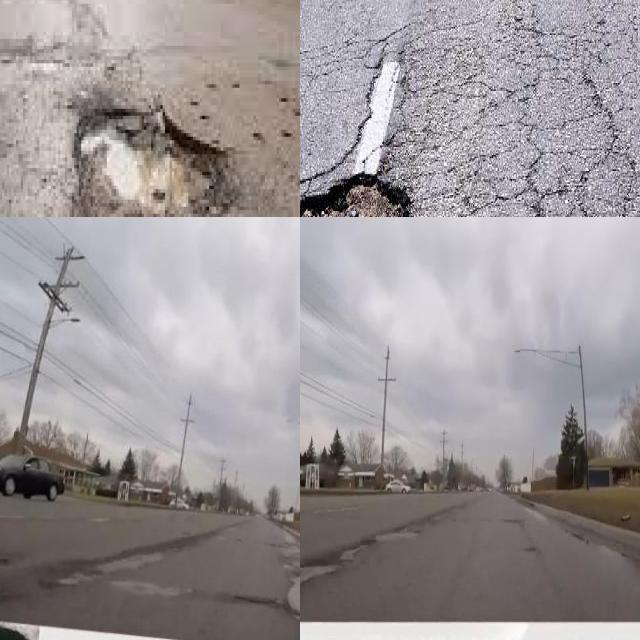Pothole: (74, 112, 228, 217), (300, 175, 409, 217), (67, 547, 149, 593), (111, 580, 192, 597), (96, 552, 164, 572), (232, 593, 283, 609), (375, 529, 418, 543), (339, 546, 366, 561), (280, 555, 300, 570), (266, 539, 292, 550), (208, 533, 231, 540), (522, 547, 535, 551)
